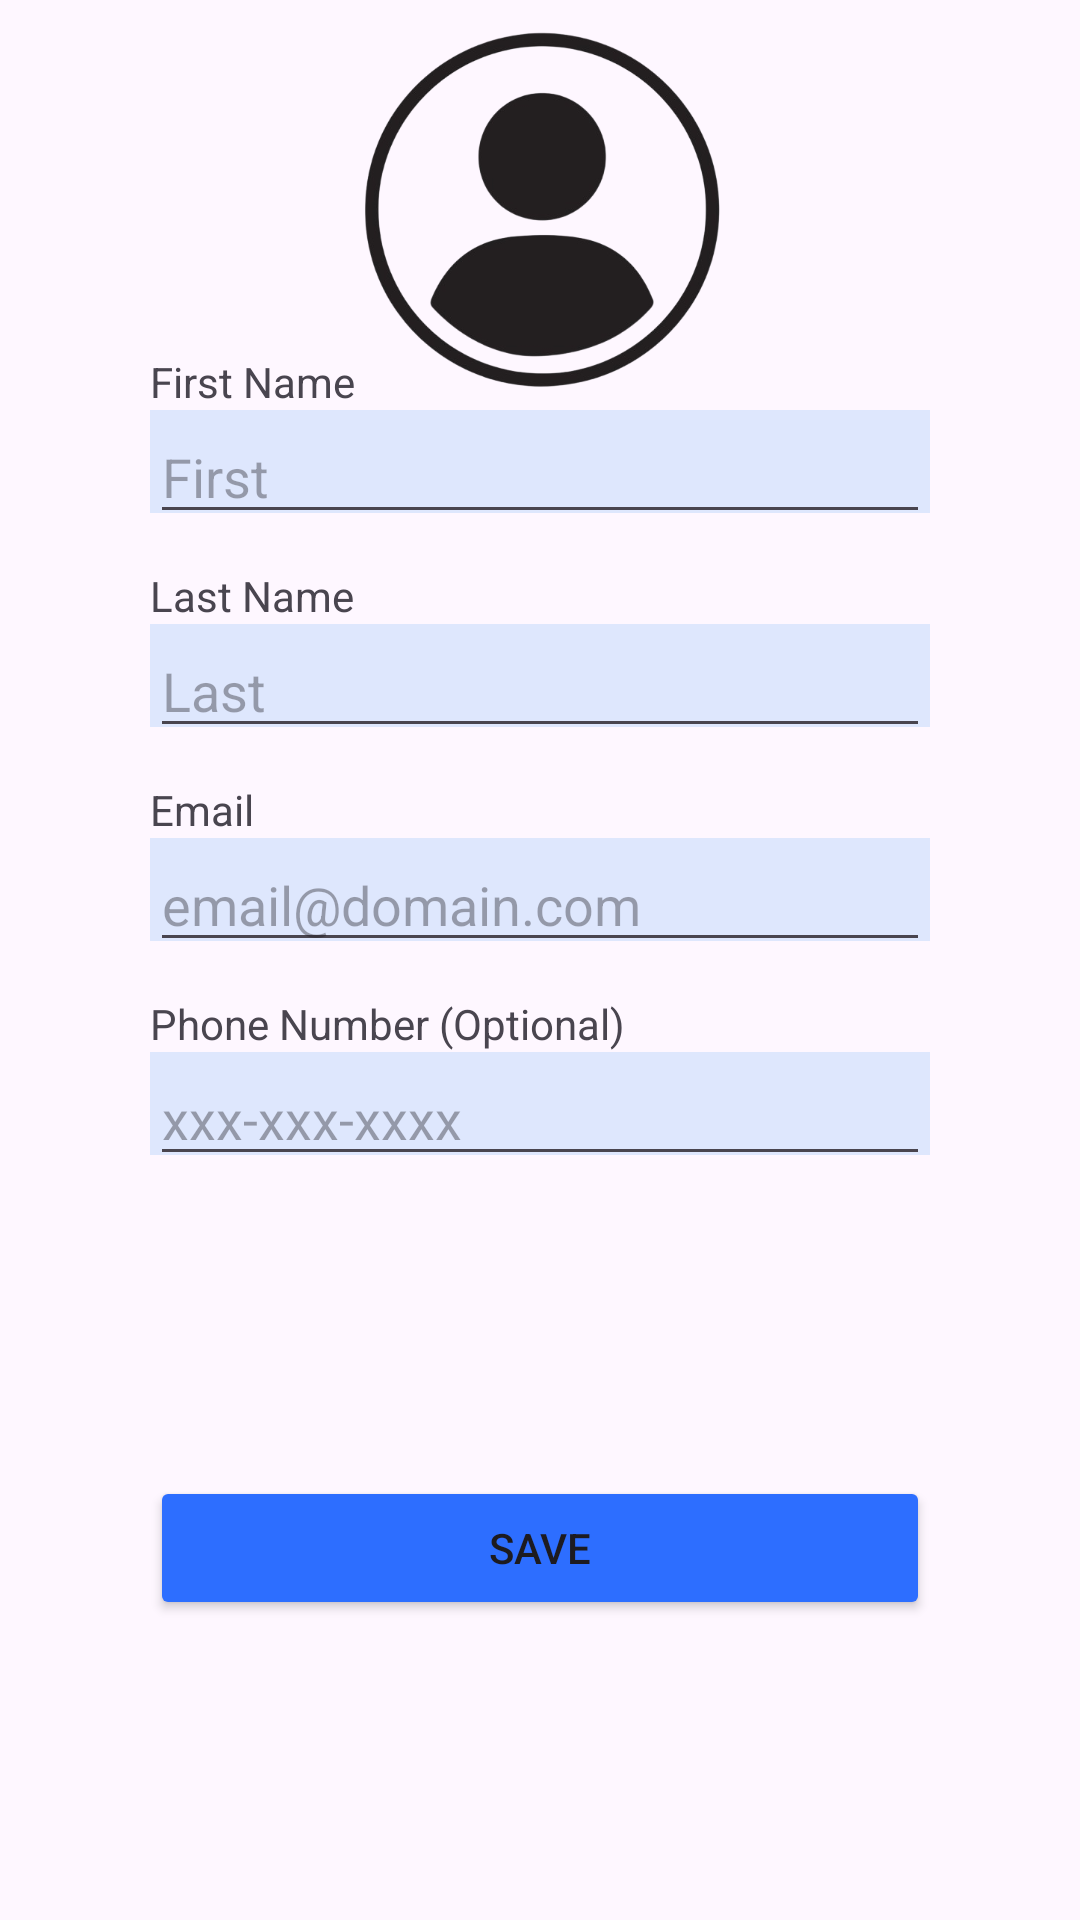

Locate icon controls on the screen. Image size 1080px×1920px, boxes as (x1=x1, y1=y1, x2=x2, y2=y2).
user profile: (x1=365, y1=33, x2=720, y2=387)
